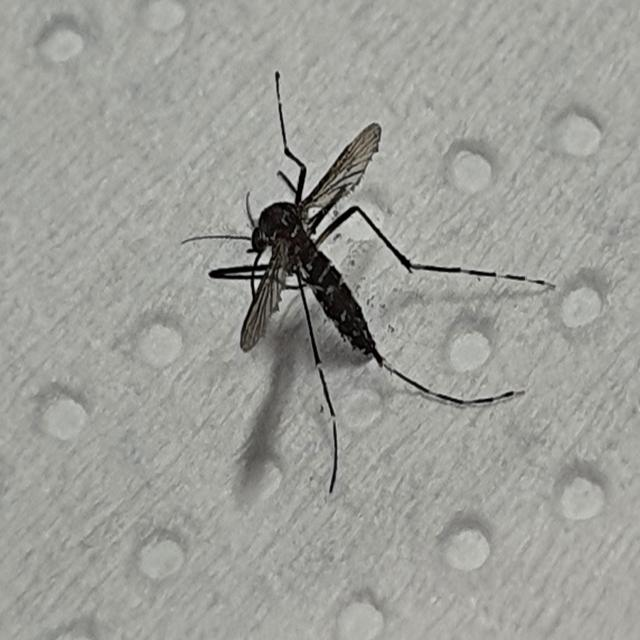albopictus: (174, 62, 546, 518)
